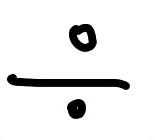div: (9, 21, 131, 120)
